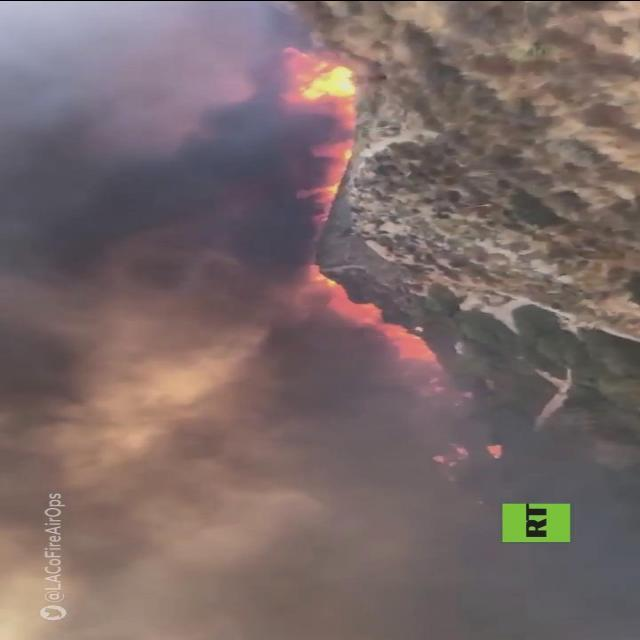Fire: (302, 260, 440, 374), (280, 48, 358, 120), (298, 139, 354, 204), (484, 442, 504, 458)
